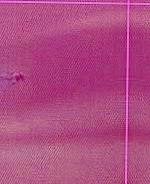knot: (5, 67, 30, 89)
